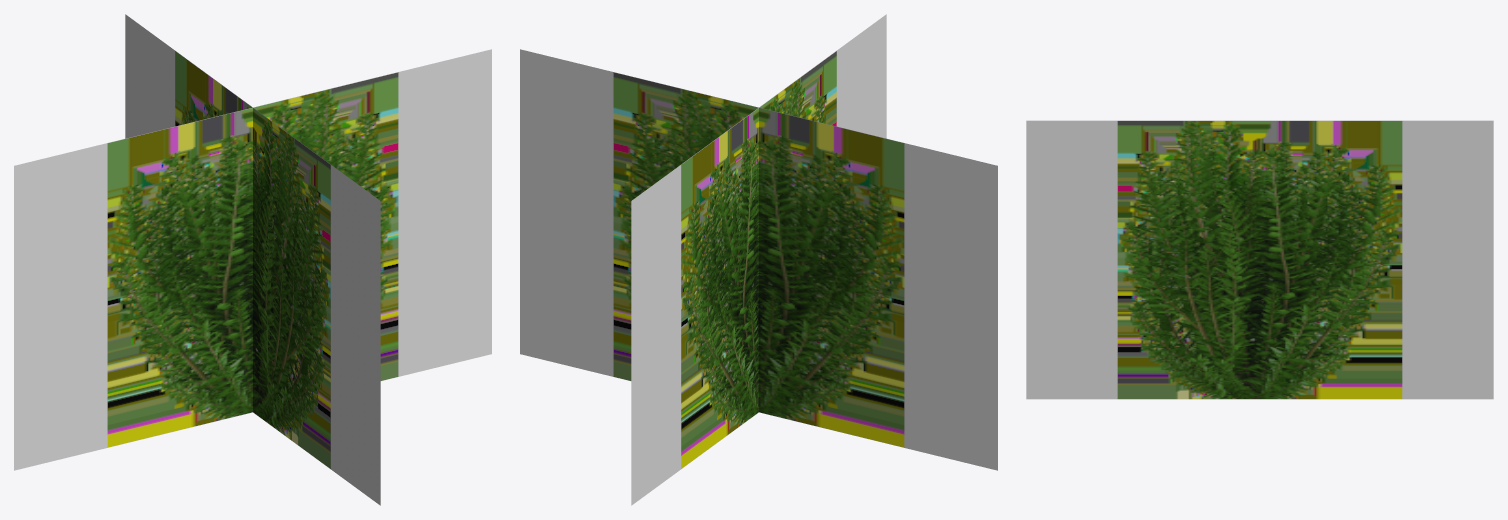
File: brushmodel1.fbx
3 views of the same model, side by side, from view 1: azimuth 30°, elevation 25°; view 2: azimuth 150°, elevation 25°; view 3: azimuth 270°, elevation 25° (orthographic). The views are drawn at different scales.
Parts seen in each view (by area): view 1: Plane; view 2: Plane; view 3: Plane.
Part boxes in pixels (x1=…): Plane: x1=14, y1=14, x2=491, y2=505; Plane: x1=520, y1=14, x2=997, y2=505; Plane: x1=1026, y1=120, x2=1493, y2=399.
Bounding box in the file's own units: 56.98 × 34.74 × 52.79.
